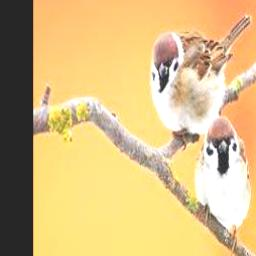Sparrow: (151, 15, 252, 151), (195, 115, 251, 255)
